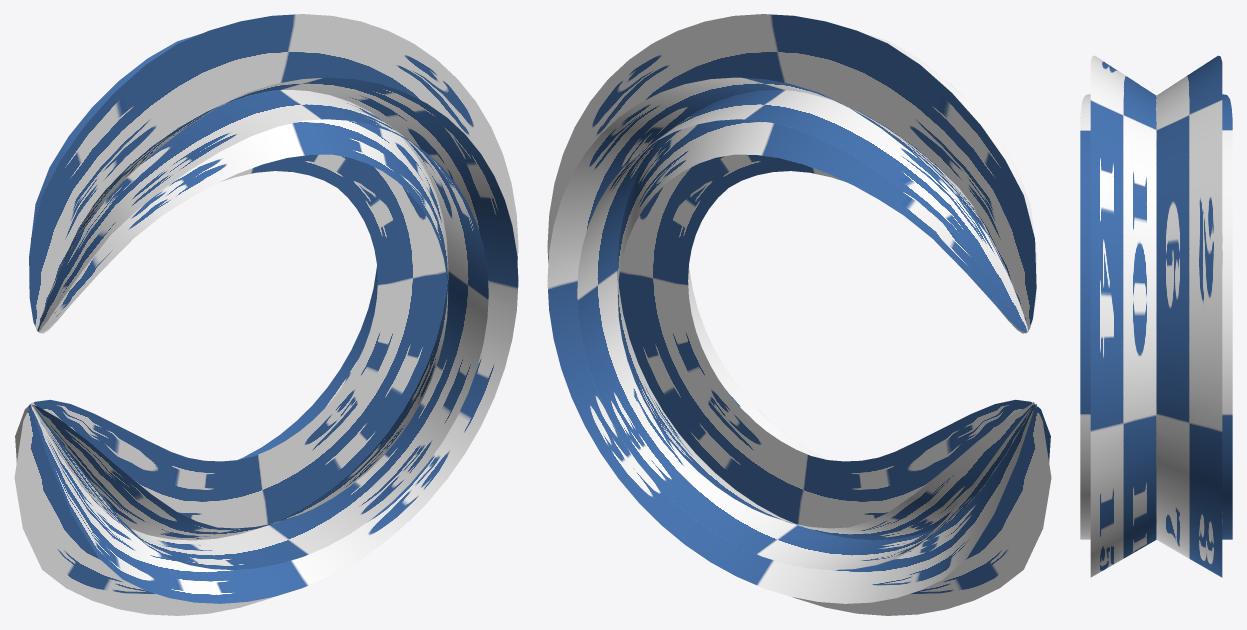
The model's file is Shinobu_Ring4.fbx.
3 renders of one model, left to right at view 1: azimuth 30°, elevation 25°; view 2: azimuth 150°, elevation 25°; view 3: azimuth 270°, elevation 25°, orthographic. The views are drawn at different scales.
Visible parts, largest first — view 1: SM_e_Plc_P0011_Ring004; view 2: SM_e_Plc_P0011_Ring004; view 3: SM_e_Plc_P0011_Ring004.
Part boxes in pixels (x1,y1,x2,y2): SM_e_Plc_P0011_Ring004: [14, 14, 518, 615]; SM_e_Plc_P0011_Ring004: [547, 14, 1051, 615]; SM_e_Plc_P0011_Ring004: [1080, 55, 1232, 577].
Bounding box in the file's own units: 108 × 120 × 30.
